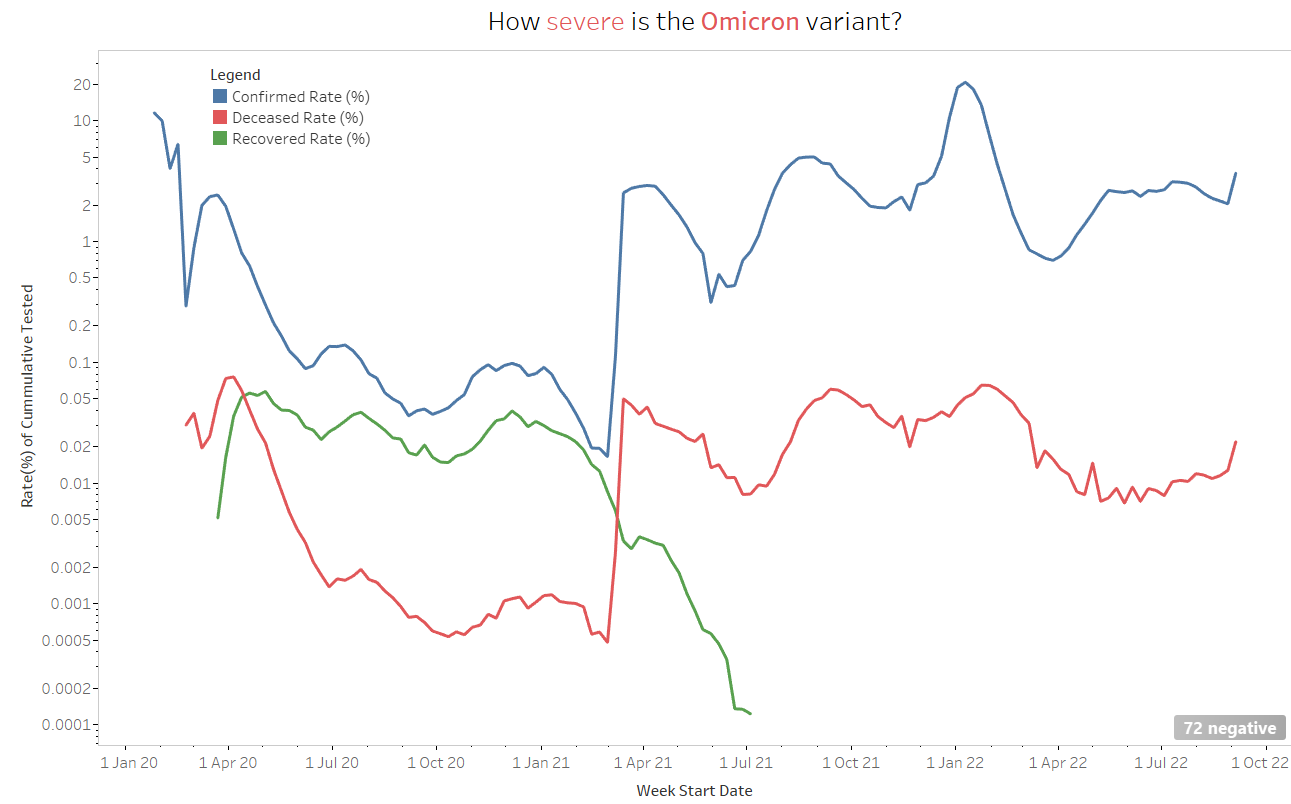

This screenshot's page, from the dashboard's own definition file:
{"tool":"tableau","page":{"name":"Dashboard 1","canvas":[1400,1000],"ordinal":0},"visuals":[{"type":"worksheet","title":"Sheet 1","mark":"Automatic","rows":["Calculation_363947197018038273"],"cols":["Calculation_363947197017694208"],"box":[35,12,1358,809]},{"type":"legend","title":"Sheet 1","param":"[federated.0c7tvhs13rziyf1dia9iy1slkp2f].[:Measure Names]","box":[229,76,212,87]}]}

Visuals, with their boxes on the page's 1400x1000 design canvas (x1, y1, x2, y2). These are canvas units, not pixel positions in the 1291x804 screenshot, which may show the page scaled, cropped or inside an application window:
"Sheet 1" worksheet: l=35, t=12, r=1393, b=821
"Sheet 1" legend: l=229, t=76, r=441, b=163
